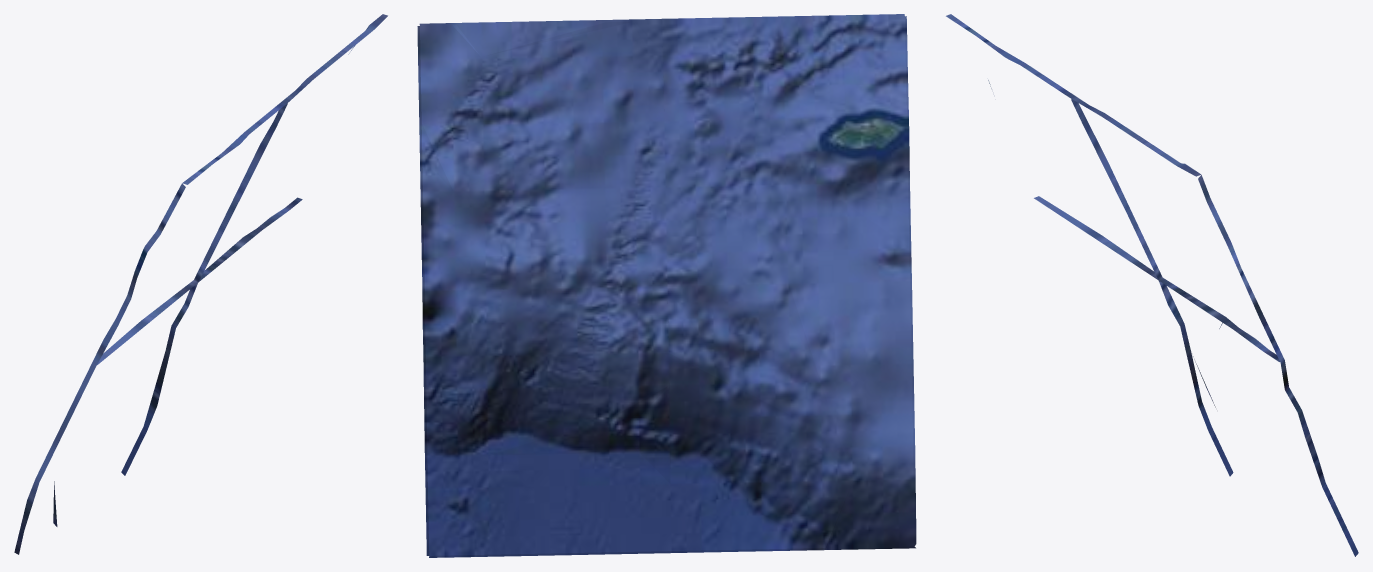
The picture shows the model from 3 angles, left to right: view 1: azimuth 30°, elevation 25°; view 2: azimuth 150°, elevation 25°; view 3: azimuth 270°, elevation 25°; orthographic projection. The views are drawn at different scales.
Size of the model in its own units: 77110 by 73435 by 64670.
Materials: 1 (1 with a texture image).
